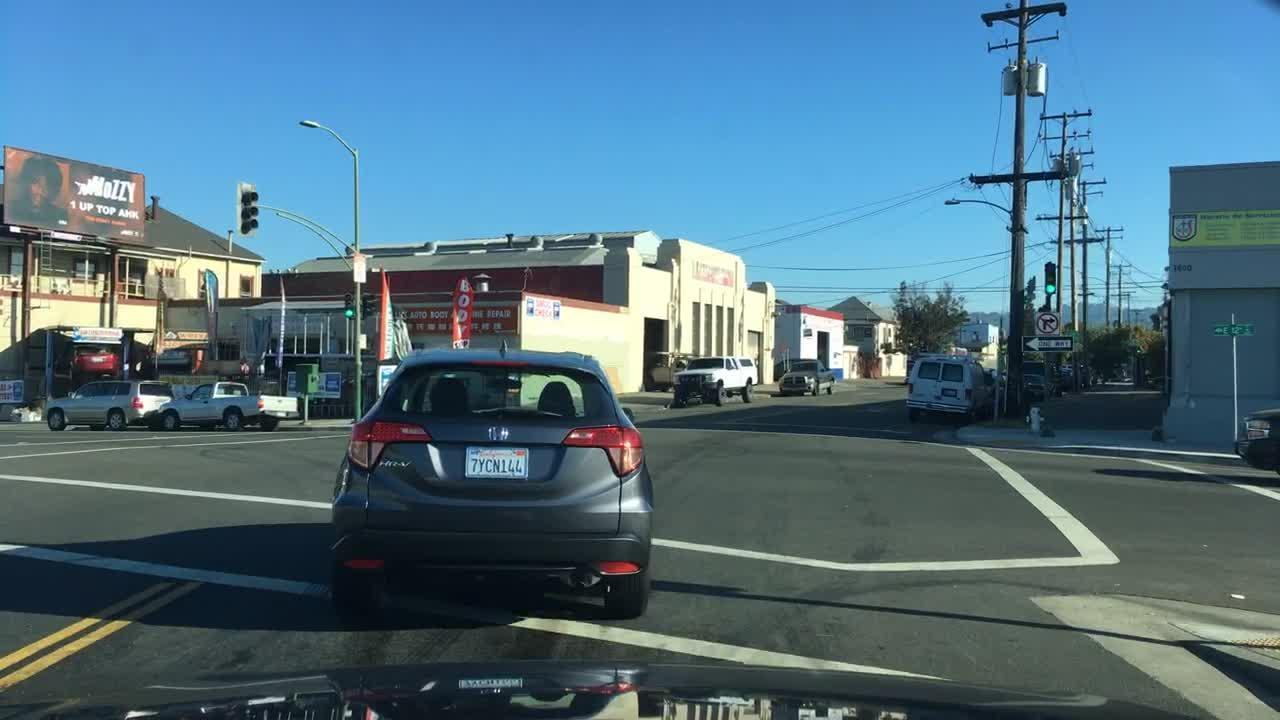Honda: (480, 418, 517, 456)
